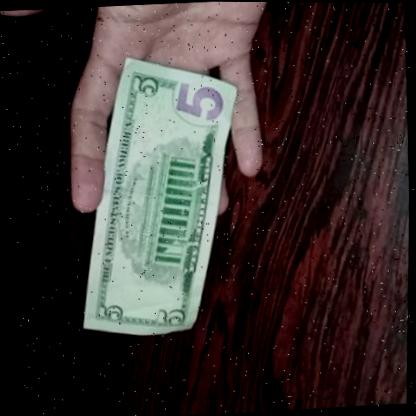five-back: (62, 43, 256, 343)
